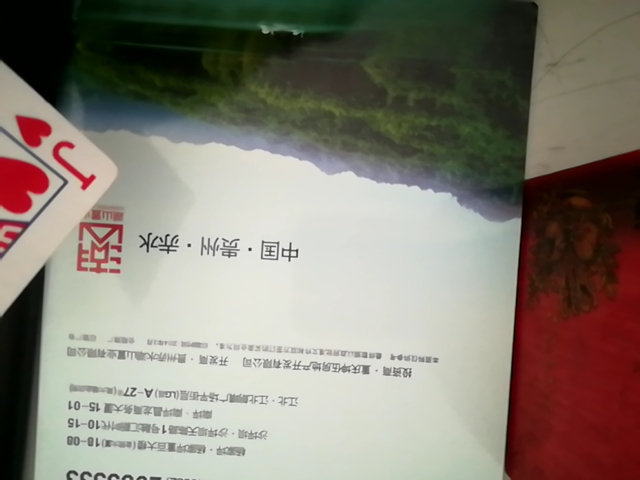hx j: (0, 14, 132, 395)
